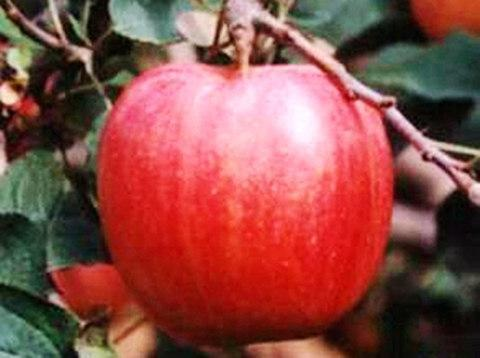apple: (96, 53, 397, 344)
